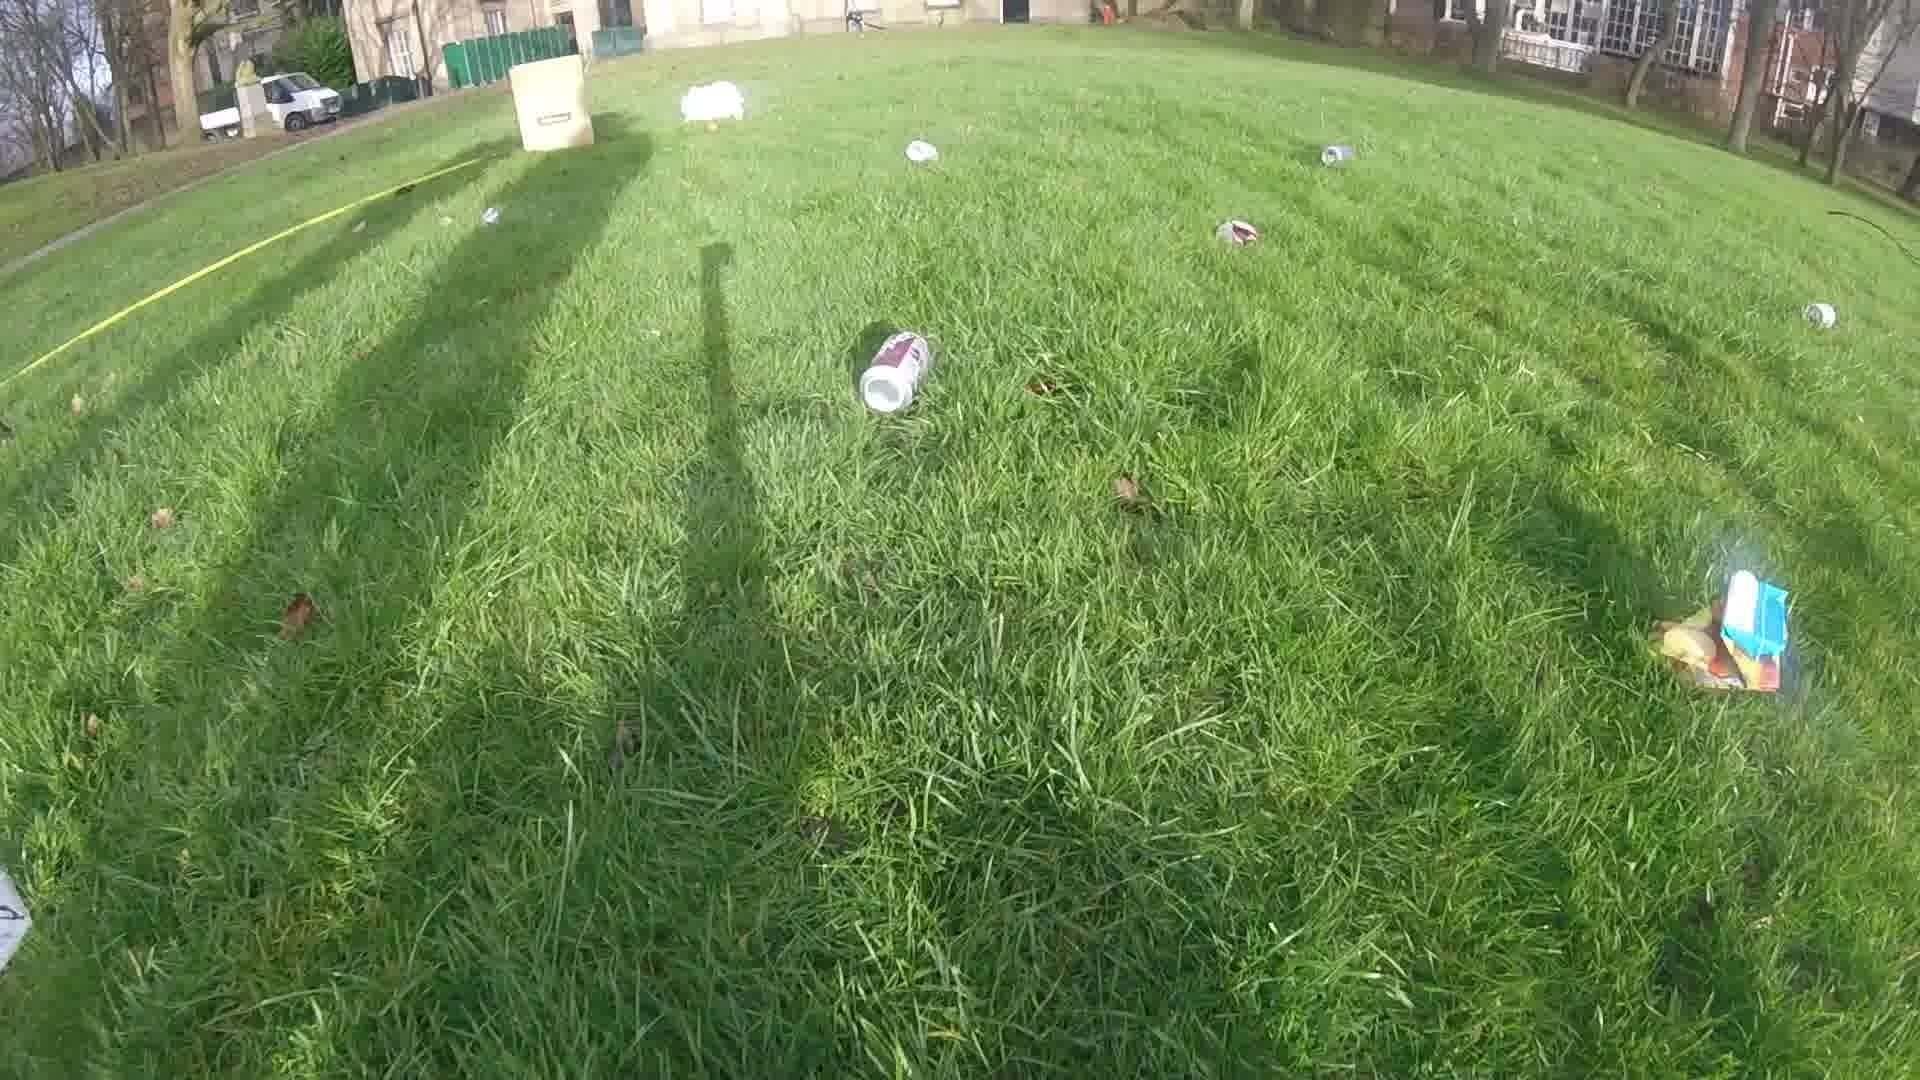litter: (1654, 572, 1796, 709), (510, 55, 596, 148), (861, 328, 932, 414), (679, 80, 746, 123), (1217, 215, 1258, 251), (1804, 302, 1838, 335), (899, 142, 936, 164), (1320, 146, 1354, 166), (479, 208, 501, 225)
